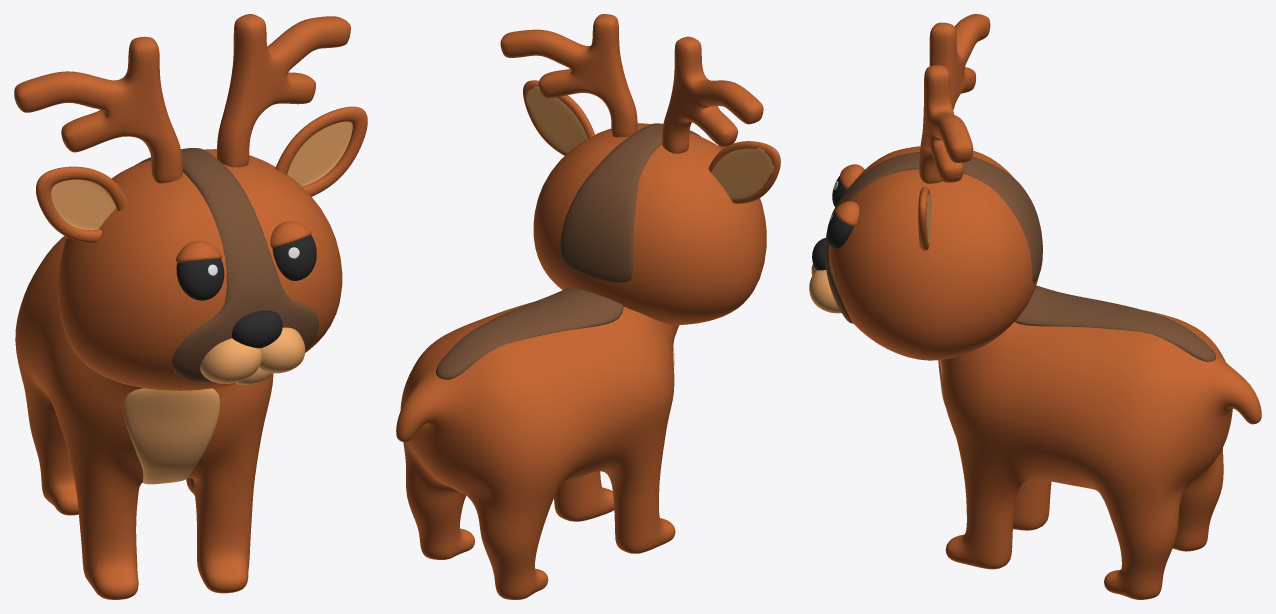
Rendered from Reindeer.glb.
3 views of the same model, side by side, from view 1: azimuth 30°, elevation 25°; view 2: azimuth 150°, elevation 25°; view 3: azimuth 270°, elevation 25° (orthographic). The views are drawn at different scales.
Visible parts, largest first — view 1: Cube, Cube.002, Vert.001, Cube.004, Cube.006, Plane.003, Plane, Mouth, Sphere, Cube.001, Sphere.001; view 2: Cube, Cube.002, Vert.001, Cube.004, Cube.006, Plane, Plane.003; view 3: Cube, Cube.002, Vert.001, Cube.006, Cube.004, Mouth, Sphere.001, Sphere, Plane.003.
Boxes of the visible parts, x1,y1,x2,y2 form: Cube: (15,236,273,599); Cube.002: (58,149,342,390); Vert.001: (14,14,350,183); Cube.004: (135,148,318,382); Cube.006: (123,388,220,484); Plane.003: (36,106,367,243); Plane: (51,121,352,230); Mouth: (200,327,305,383); Sphere: (176,235,316,300); Cube.001: (232,310,282,348); Sphere.001: (176,221,311,262); Cube: (396,301,678,599); Cube.002: (533,123,766,325); Vert.001: (500,14,763,153); Cube.004: (559,123,700,282); Cube.006: (436,288,674,379); Plane: (525,86,773,199); Plane.003: (523,80,780,203); Cube: (940,310,1261,599); Cube.002: (830,146,1038,360); Vert.001: (919,14,990,183); Cube.006: (938,285,1215,406); Cube.004: (825,152,1042,323); Mouth: (809,264,841,313); Sphere.001: (835,164,864,226); Sphere: (827,176,853,248); Plane.003: (918,186,931,250).
Size of the model in its own units: 1.75 by 2.92 by 2.42.
